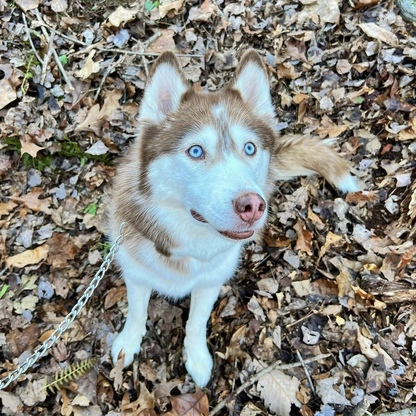husky: (99, 45, 363, 396)
